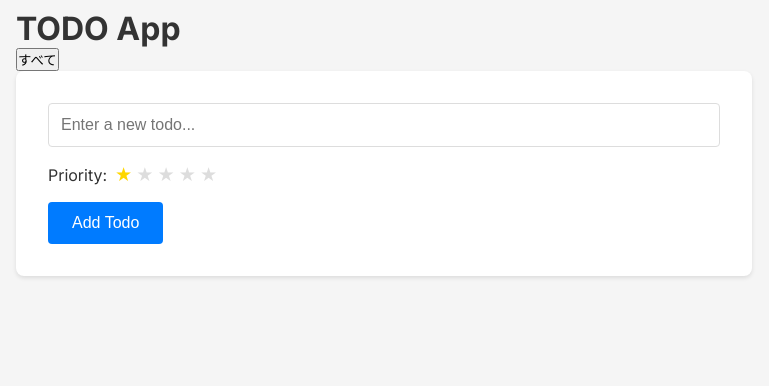
Scenario: Todo App › adds a new todo when form is submitted
In the field with placeholder "Enter a new todo...": point(384, 125) [48,103,720,147], type "New todo"
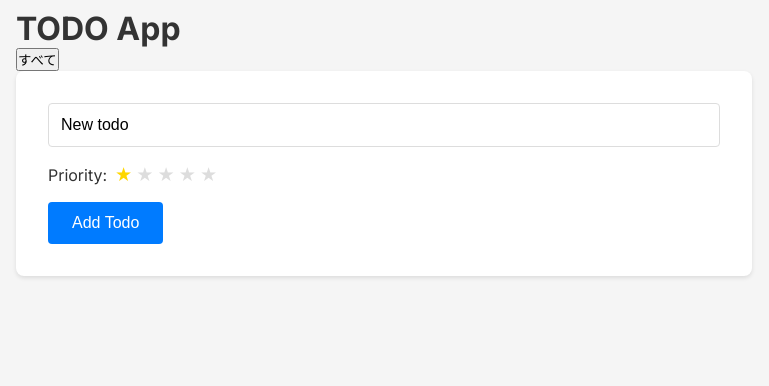
Click the button "Add Todo": point(106, 223) [48,202,163,244]
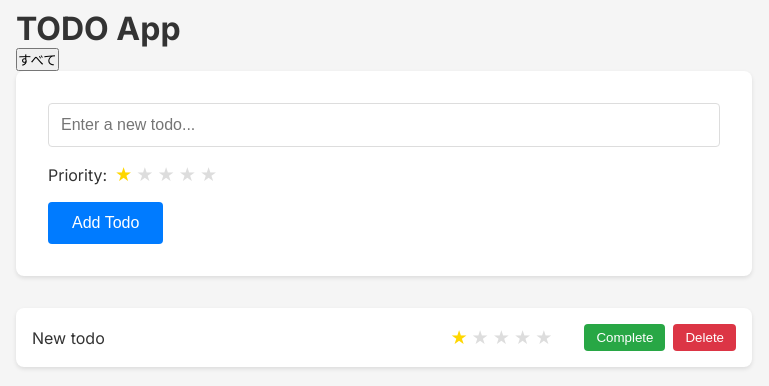
Now the text "New todo" is shown, box [32,328,105,348]
